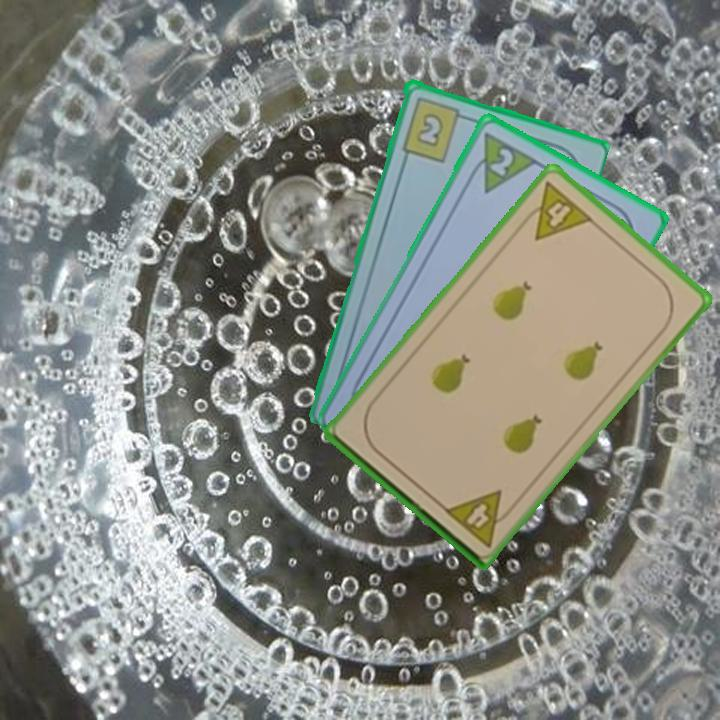2b: (397, 93, 471, 164)
2p: (485, 143, 517, 179)
4p: (515, 177, 596, 243), (440, 486, 519, 550)
